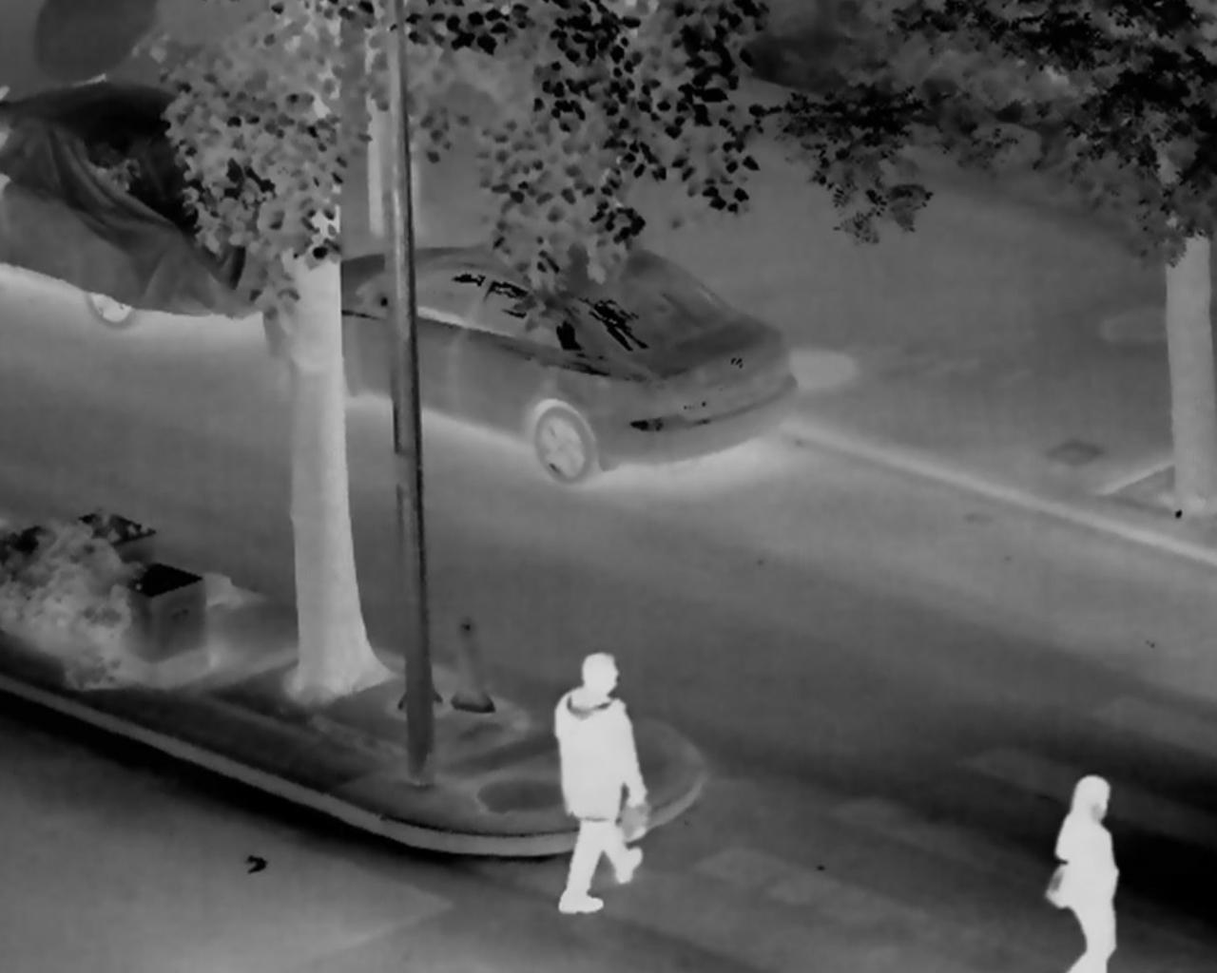person: (548, 653, 651, 919), (1045, 772, 1121, 973)
